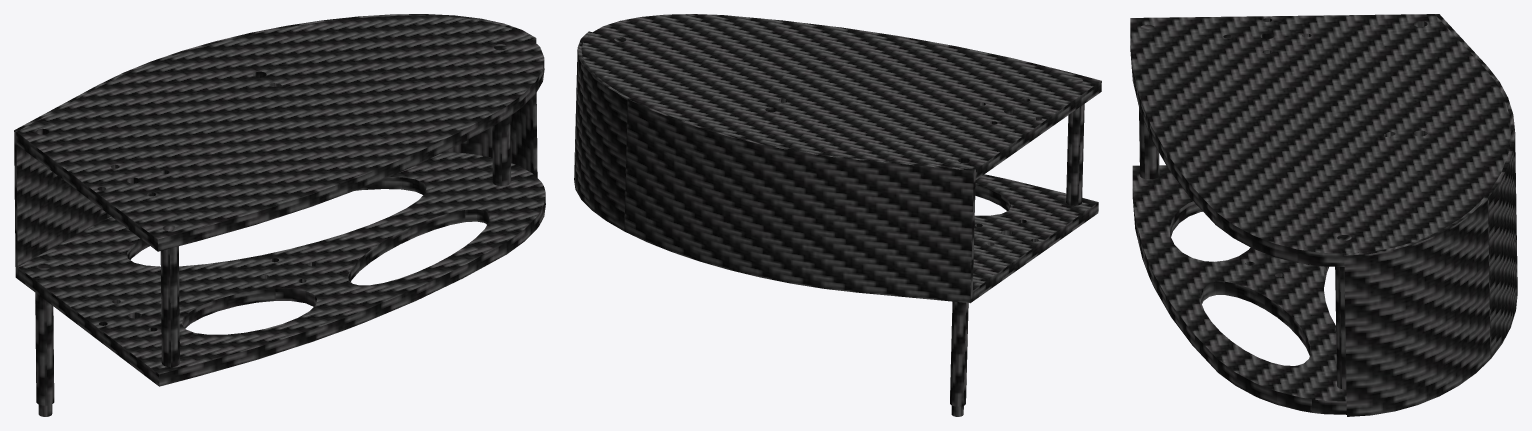
The model's file is right_up_link.dae.
3 views of the same model, side by side, from view 1: azimuth 30°, elevation 25°; view 2: azimuth 150°, elevation 25°; view 3: azimuth 270°, elevation 25° (orthographic). The views are drawn at different scales.
Parts seen in each view (by area): view 1: right_up_link; view 2: right_up_link; view 3: right_up_link.
Boxes of the visible parts, x1,y1,x2,y2 form: right_up_link: (14, 14, 545, 416); right_up_link: (574, 14, 1101, 416); right_up_link: (1130, 14, 1517, 416).
Size of the model in its own units: 0.1217 by 0.0791 by 0.0711.
1 material, 1 textured.
